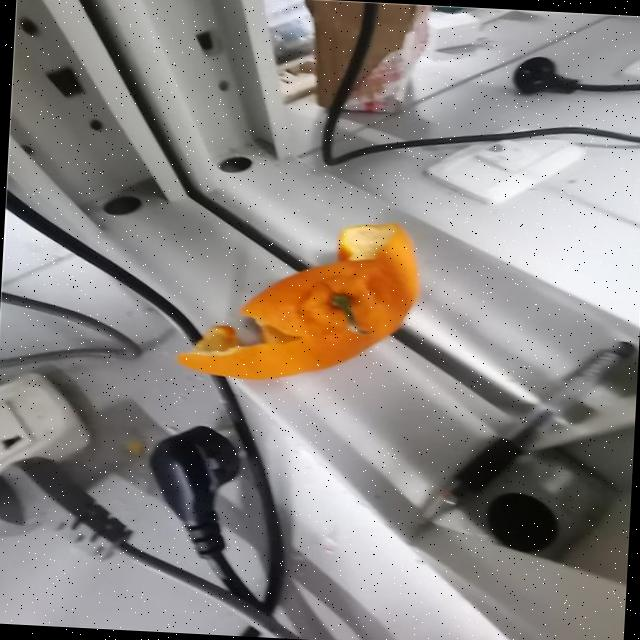orange-peel: (175, 210, 423, 390)
